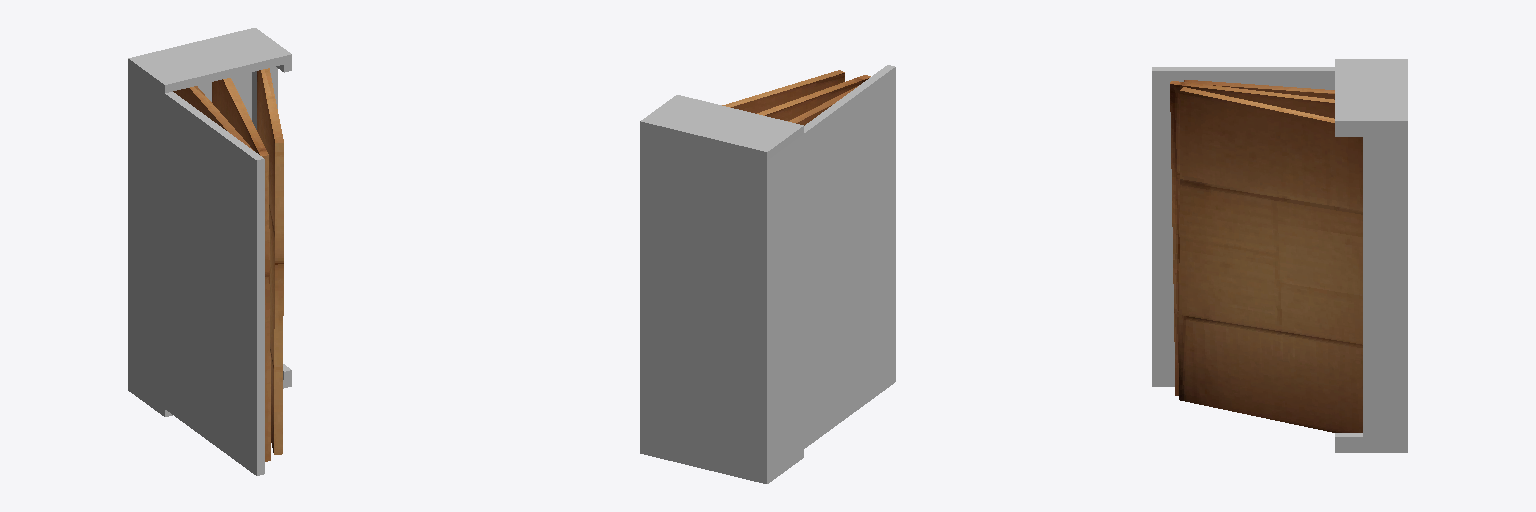
The picture shows the model from 3 angles: view 1: azimuth 30°, elevation 25°; view 2: azimuth 150°, elevation 25°; view 3: azimuth 270°, elevation 25°; orthographic projection.
Visible parts, largest first — view 1: 4, 9, 133, 6, 3, 5; view 2: 4, 3, 9, 7, 133, 6, 2; view 3: 133, 7, 4, 9, 6, 5, 2.
Part boxes in pixels (x1,y1,x2,y2): 4: (128, 67, 264, 475); 9: (128, 28, 291, 92); 133: (257, 68, 283, 454); 6: (212, 78, 270, 461); 3: (128, 70, 251, 384); 5: (173, 86, 253, 150); 4: (759, 65, 895, 475); 3: (648, 132, 771, 475); 9: (640, 95, 803, 160); 7: (640, 130, 647, 446); 133: (722, 70, 844, 113); 6: (757, 75, 870, 120); 2: (640, 445, 803, 483); 133: (1179, 87, 1362, 432); 7: (1363, 129, 1407, 444); 4: (1152, 67, 1334, 386); 9: (1335, 59, 1407, 128); 6: (1170, 81, 1334, 395); 5: (1184, 80, 1334, 99); 2: (1335, 445, 1407, 452).
Bounding box in the file's own units: 16.01 × 40 × 28.
Materials: 2 (1 with a texture image).